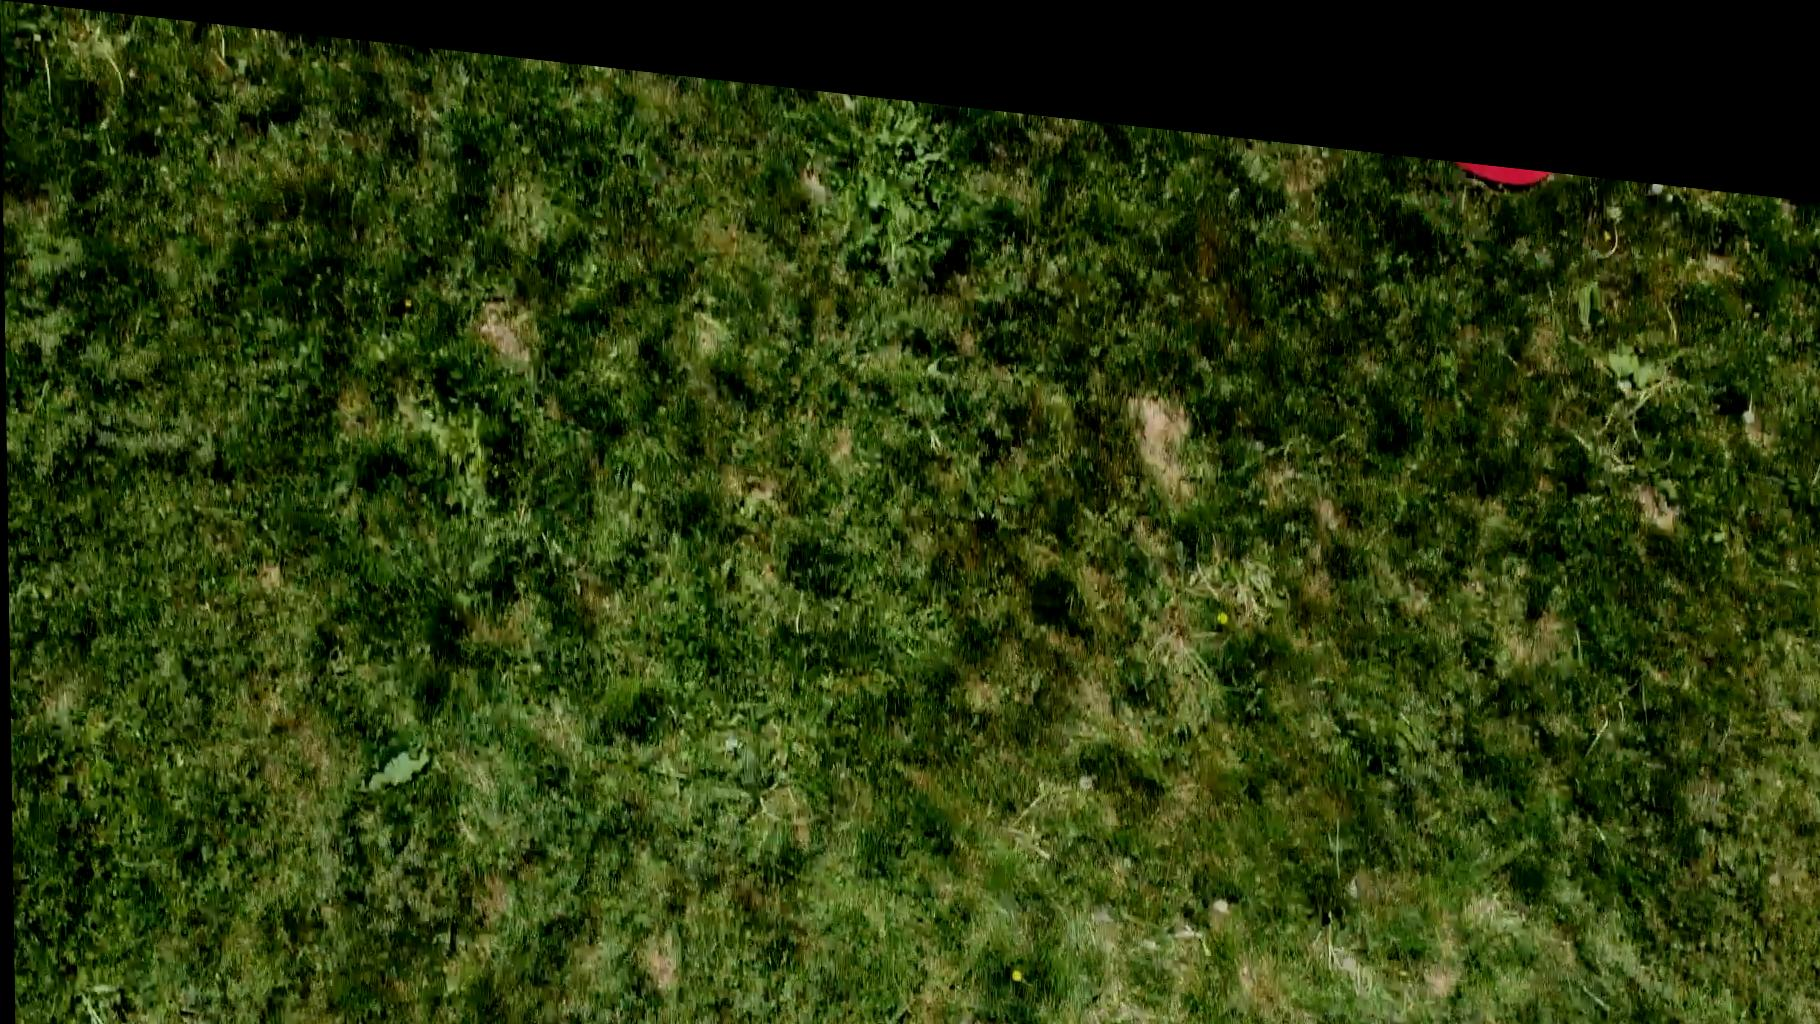Red: (1437, 126, 1572, 159)
